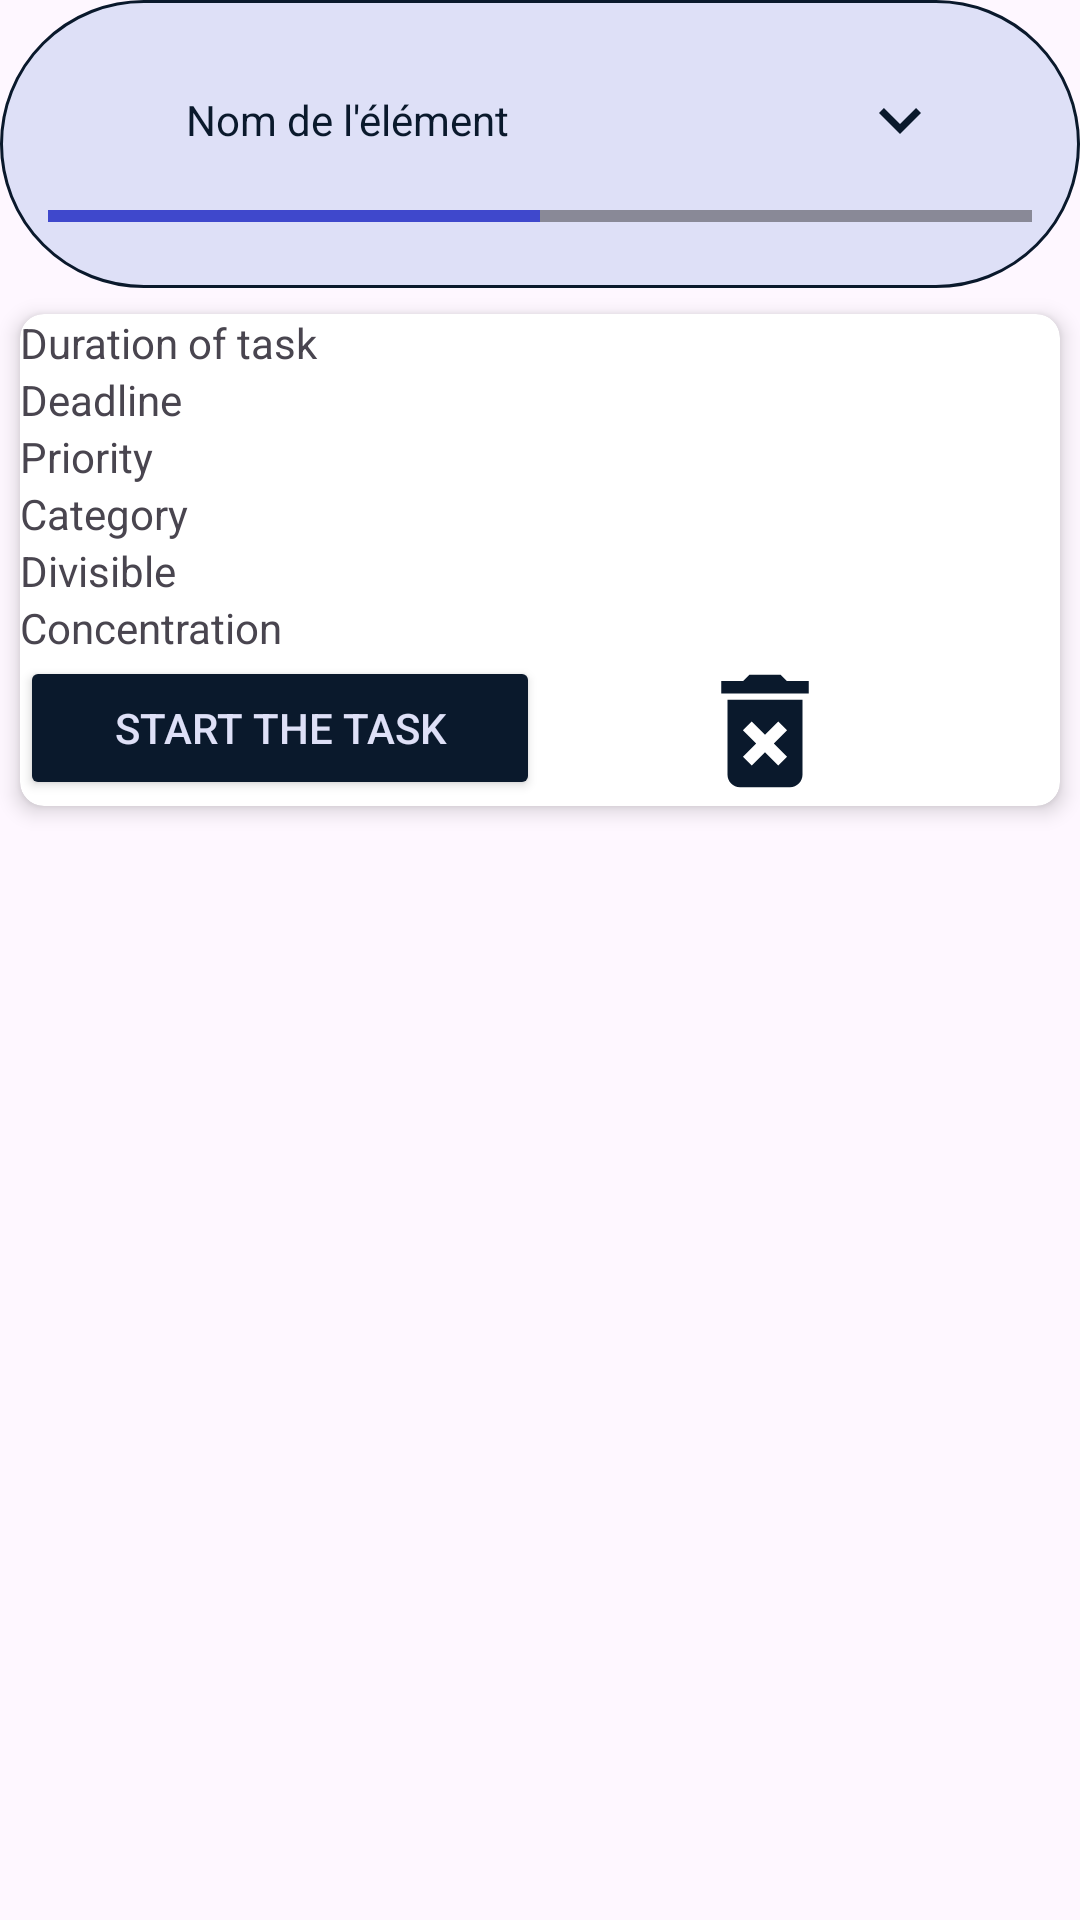

Named icons in this screenshot (1080w x 1920h) and their centers, (x=x, y=y):
arrow down: (x=900, y=121)
delete: (x=765, y=731)
